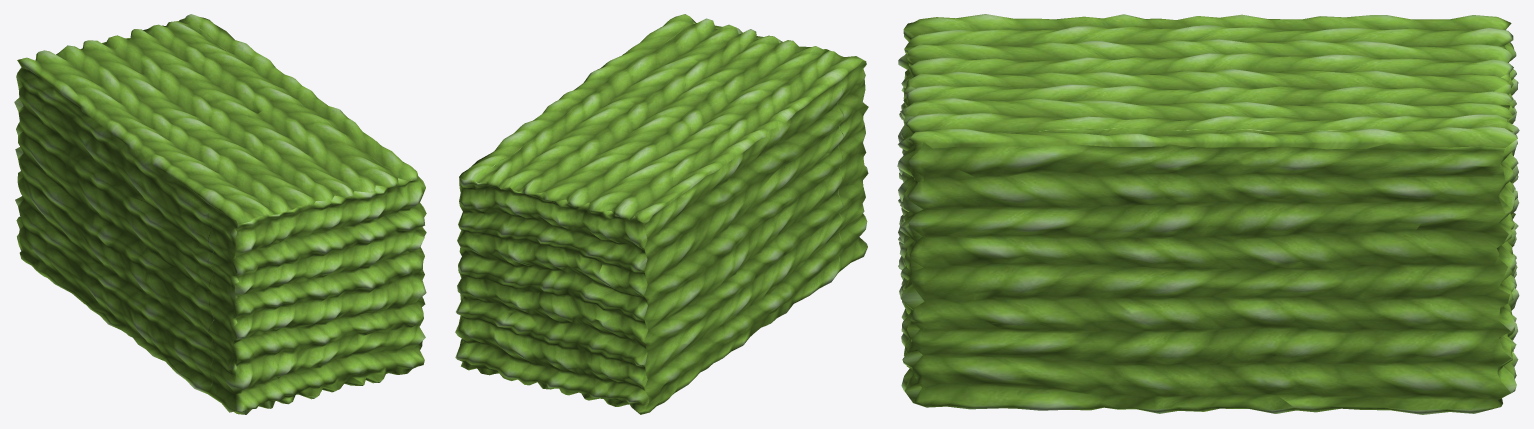
Rendered from greenyarnbox.fbx.
The picture shows the model from 3 angles, left to right: view 1: azimuth 30°, elevation 25°; view 2: azimuth 150°, elevation 25°; view 3: azimuth 270°, elevation 25°; orthographic projection. The views are drawn at different scales.
Visible parts, largest first — view 1: Cube; view 2: Cube; view 3: Cube.
Part boxes in pixels (box(x1,y1,x2,y2)): Cube: box(14, 14, 426, 414); Cube: box(455, 14, 868, 414); Cube: box(897, 14, 1519, 414).
Size of the model in its own units: 108 by 107 by 215.
1 material, 1 textured.
